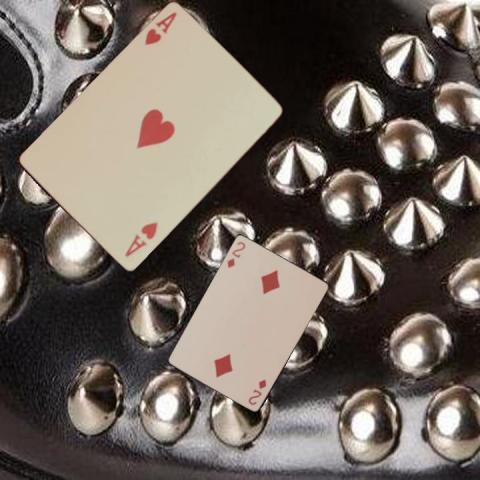2d: (224, 239, 247, 270), (245, 376, 268, 406)
Ah: (122, 220, 160, 260), (140, 10, 178, 48)
